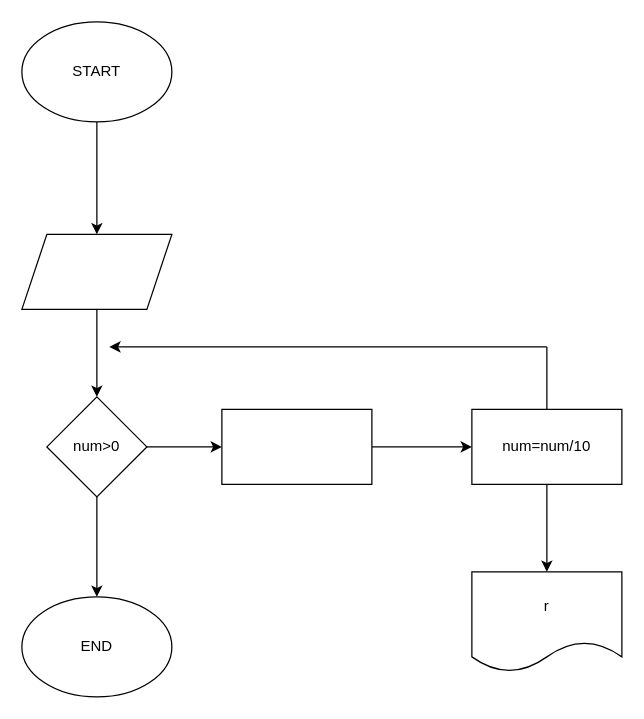
Some shapes in this 644 by 719 pixel diagram are drawn without their labels. Here are the shapes that lost their labels. From the top down, the box of each, then its label:
(21, 233, 172, 309): read num
(221, 408, 372, 484): r=num%10
